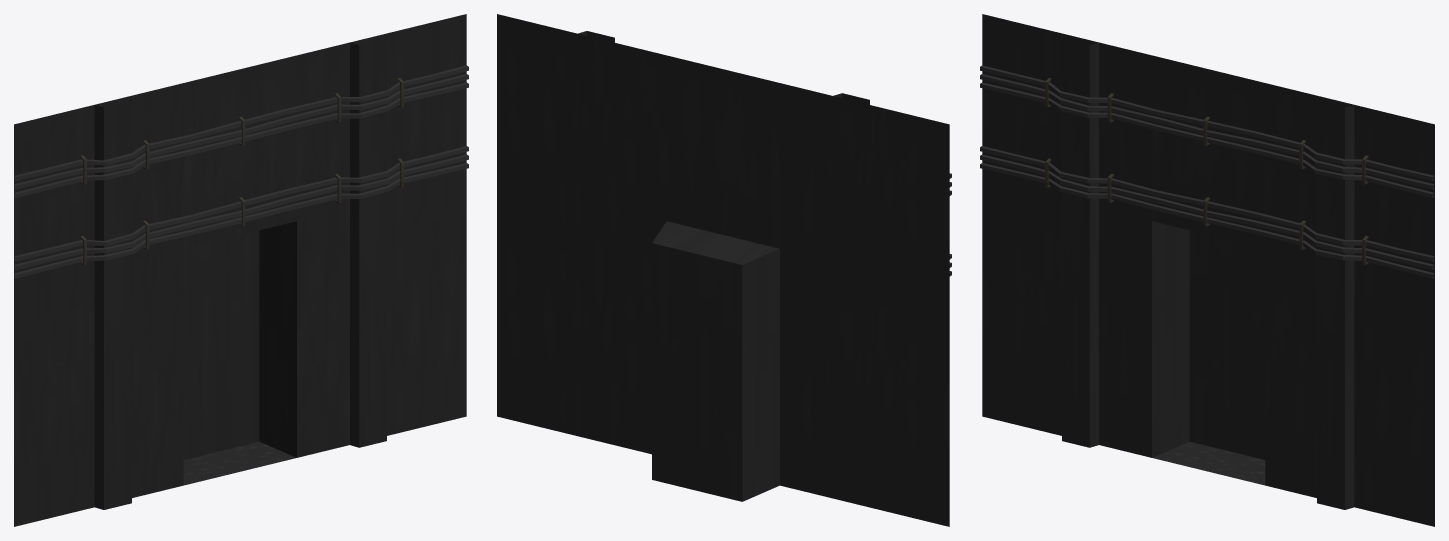
File: SW_ENV_RailTunnelWall_B_02a_05m_FF.fbx
3 renders of one model, left to right at view 1: azimuth 30°, elevation 25°; view 2: azimuth 150°, elevation 25°; view 3: azimuth 330°, elevation 25°, orthographic.
Visible parts, largest first — view 1: SW_ENV_RailTunnelWall_B_02a_05m_FF; view 2: SW_ENV_RailTunnelWall_B_02a_05m_FF; view 3: SW_ENV_RailTunnelWall_B_02a_05m_FF.
Part boxes in pixels (x1,y1,x2,y2): SW_ENV_RailTunnelWall_B_02a_05m_FF: (14,14,468,526); SW_ENV_RailTunnelWall_B_02a_05m_FF: (497,14,951,526); SW_ENV_RailTunnelWall_B_02a_05m_FF: (980,14,1434,526).
Bounding box in the file's own units: 500 × 425 × 64.88.
